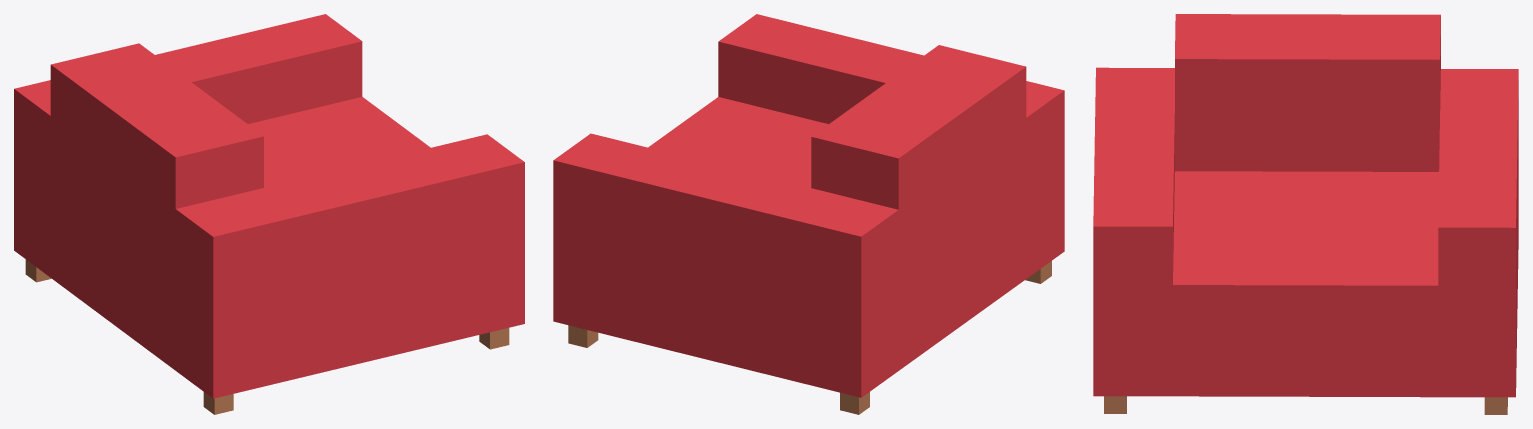
File: arm _chair.fbx
The picture shows the model from 3 angles, left to right: view 1: azimuth 30°, elevation 25°; view 2: azimuth 150°, elevation 25°; view 3: azimuth 270°, elevation 25°; orthographic projection. The views are drawn at different scales.
Visible parts, largest first — view 1: arm chair, Cube.002, Cube.001; view 2: arm chair, Cube.003, Cube.004; view 3: arm chair, Cube.004, Cube.001.
Boxes of the visible parts, left/top/right/bottom form: arm chair: left=14, top=14, right=524, bottom=398; Cube.002: left=203, top=392, right=233, bottom=414; Cube.001: left=479, top=328, right=509, bottom=349; arm chair: left=553, top=14, right=1064, bottom=397; Cube.003: left=840, top=392, right=869, bottom=414; Cube.004: left=568, top=325, right=598, bottom=347; arm chair: left=1093, top=14, right=1518, bottom=397; Cube.004: left=1484, top=397, right=1507, bottom=414; Cube.001: left=1104, top=396, right=1126, bottom=413.
Bounding box in the file's own units: 81.12 × 58.34 × 91.1.
